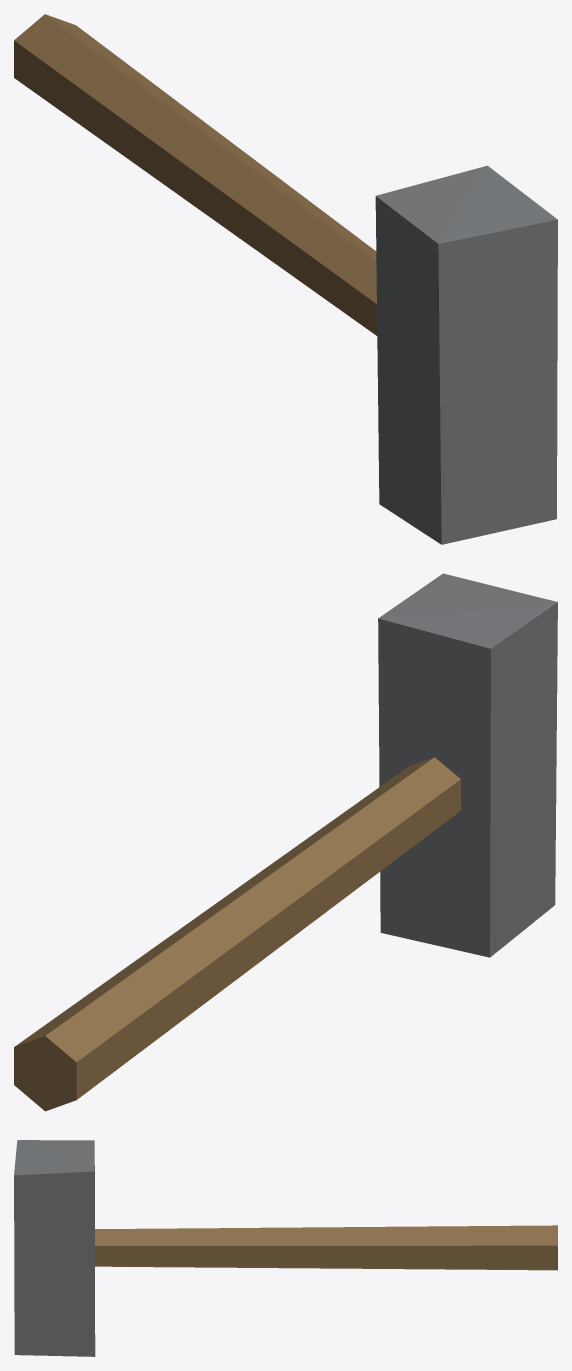
Rendered from f2_hammer.glb.
3 views of the same model, one above another, from view 1: azimuth 30°, elevation 25°; view 2: azimuth 150°, elevation 25°; view 3: azimuth 270°, elevation 25° (orthographic). The views are drawn at different scales.
Parts seen in each view (by area): view 1: F_hammer; view 2: F_hammer; view 3: F_hammer.
Part boxes in pixels (x1,y1,x2,y2): F_hammer: (14, 14, 557, 544); F_hammer: (14, 573, 557, 1111); F_hammer: (14, 1140, 557, 1356).
Size of the model in its own units: 0.0522 by 0.1327 by 0.351.
